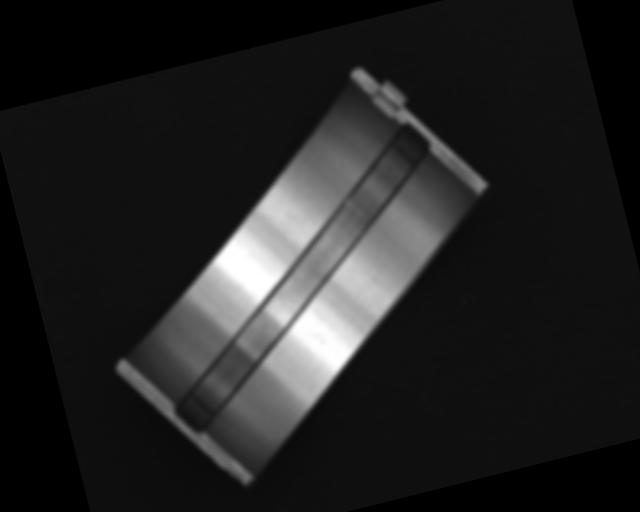gap: (121, 120, 483, 438)
nick: (359, 262, 390, 299)
